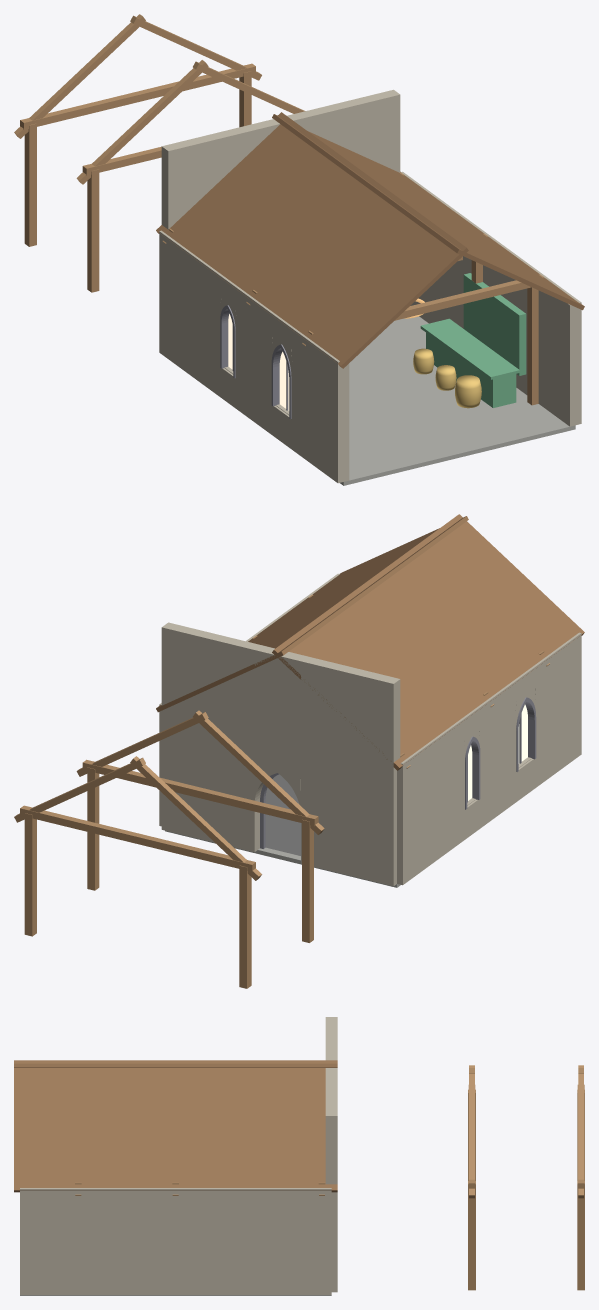
File: menu_room.glb
3 renders of one model, top to bottom at view 1: azimuth 30°, elevation 25°; view 2: azimuth 150°, elevation 25°; view 3: azimuth 270°, elevation 25°, orthographic. The views are drawn at different scales.
Visible parts, largest first — view 1: Roof_L, Floor, Wall_Right, Wall_Left_C, Wall_Left_A, Roof_R, Wall_Back_L, Wall_Back_R, Wall_Left_B, Bar_Shelf, Bar_Top, Beam_Tie_4 (+15 smaller); view 2: Roof_L, Wall_Back_L, Wall_Back_R, Wall_Left_C, Roof_R, Wall_Back_Top, Wall_Left_A, Wall_Left_B, Beam_Tie_4, Beam_Tie_3, Post_4_1, Beam_Rafter_3_-1 (+12 smaller); view 3: Roof_R, Wall_Right, Wall_Back_R, Roof_L, Post_4_1, Post_3_1, Beam_Rafter_3_1, Beam_Rafter_4_1, Wall_Back_L.
Part boxes in pixels (box(x1,y1,x2,y2)): Roof_L: box(156, 112, 468, 368); Floor: box(340, 316, 575, 485); Wall_Right: box(401, 171, 581, 426); Wall_Left_C: box(159, 230, 221, 396); Wall_Left_A: box(293, 328, 349, 483); Roof_R: box(272, 114, 584, 310); Wall_Back_L: box(161, 123, 261, 229); Wall_Back_R: box(301, 89, 400, 172); Wall_Left_B: box(237, 288, 272, 433); Bar_Shelf: box(463, 273, 526, 375); Bar_Top: box(420, 318, 519, 379); Beam_Tie_4: box(20, 63, 255, 129); Roof_L: box(272, 514, 584, 770); Wall_Back_L: box(301, 656, 400, 886); Wall_Back_R: box(161, 622, 260, 852); Wall_Left_C: box(397, 719, 463, 885); Roof_R: box(156, 516, 468, 712); Wall_Back_Top: box(254, 645, 307, 778); Wall_Left_A: box(535, 632, 581, 786); Wall_Left_B: box(479, 681, 514, 827); Beam_Tie_4: box(20, 805, 255, 871); Beam_Tie_3: box(82, 759, 318, 826); Post_4_1: box(24, 813, 36, 936); Beam_Rafter_3_-1: box(193, 710, 324, 834); Roof_R: box(14, 1060, 337, 1192); Wall_Right: box(20, 1188, 331, 1294); Wall_Back_R: box(325, 1076, 337, 1292); Roof_L: box(14, 1063, 337, 1067); Post_4_1: box(577, 1181, 584, 1290); Post_3_1: box(468, 1181, 475, 1290); Beam_Rafter_3_1: box(469, 1065, 474, 1198); Beam_Rafter_4_1: box(578, 1065, 583, 1198); Wall_Back_L: box(325, 1017, 337, 1056).
Size of the model in its own units: 12.68 by 10.45 by 29.3.
